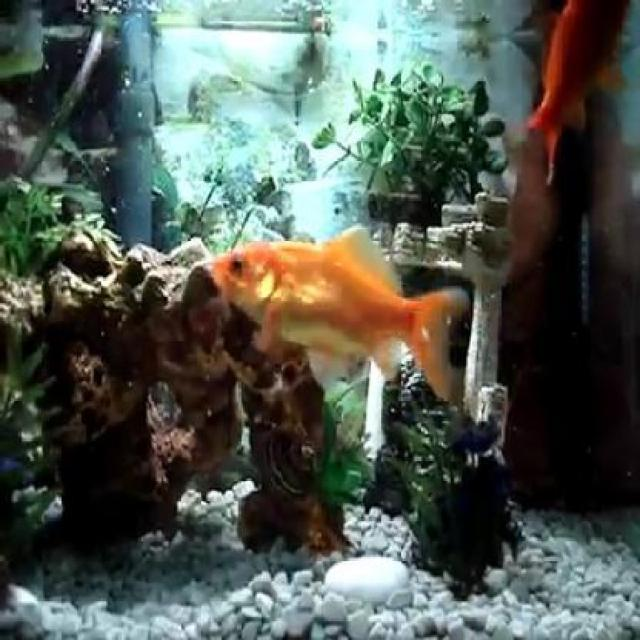GoldFish: (210, 224, 462, 402)
